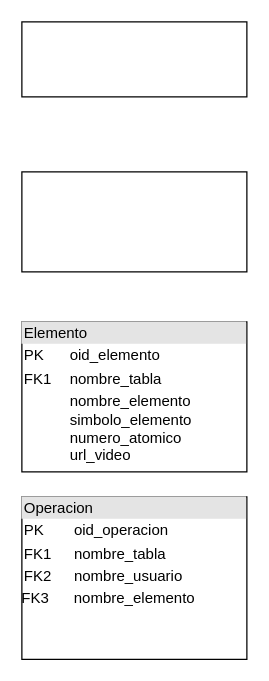
The diagram is 269 pixels wide and 681 high, and some of its shapes have lost their labels. The centre of each missing label's shape, as x and y in pixels:
"Tabla_Periodica PK oid_tabla_periodica nombre_tabla_periodica" belongs at (134,59).
"Usuario PK oid_usuario FK1 nombre_tabla_periodica nombre_usuario" belongs at (134,221).
